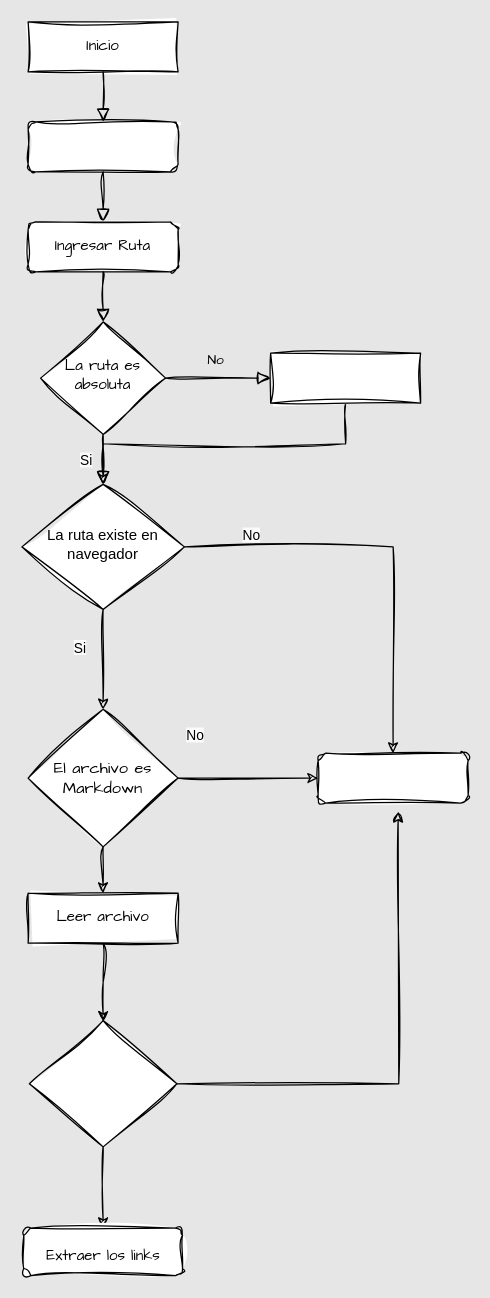
Image size: 490x1298. Some labels were removed from this diagram. Here are the shapes that lost their labels. From the top down, the box of each, then its label:
(27, 121, 178, 172): Promesa
(269, 352, 421, 403): Transformar la ruta en absoluta
(317, 752, 468, 803): Enviar mensaje de error
(28, 1019, 177, 1147): El archivo tiene links
